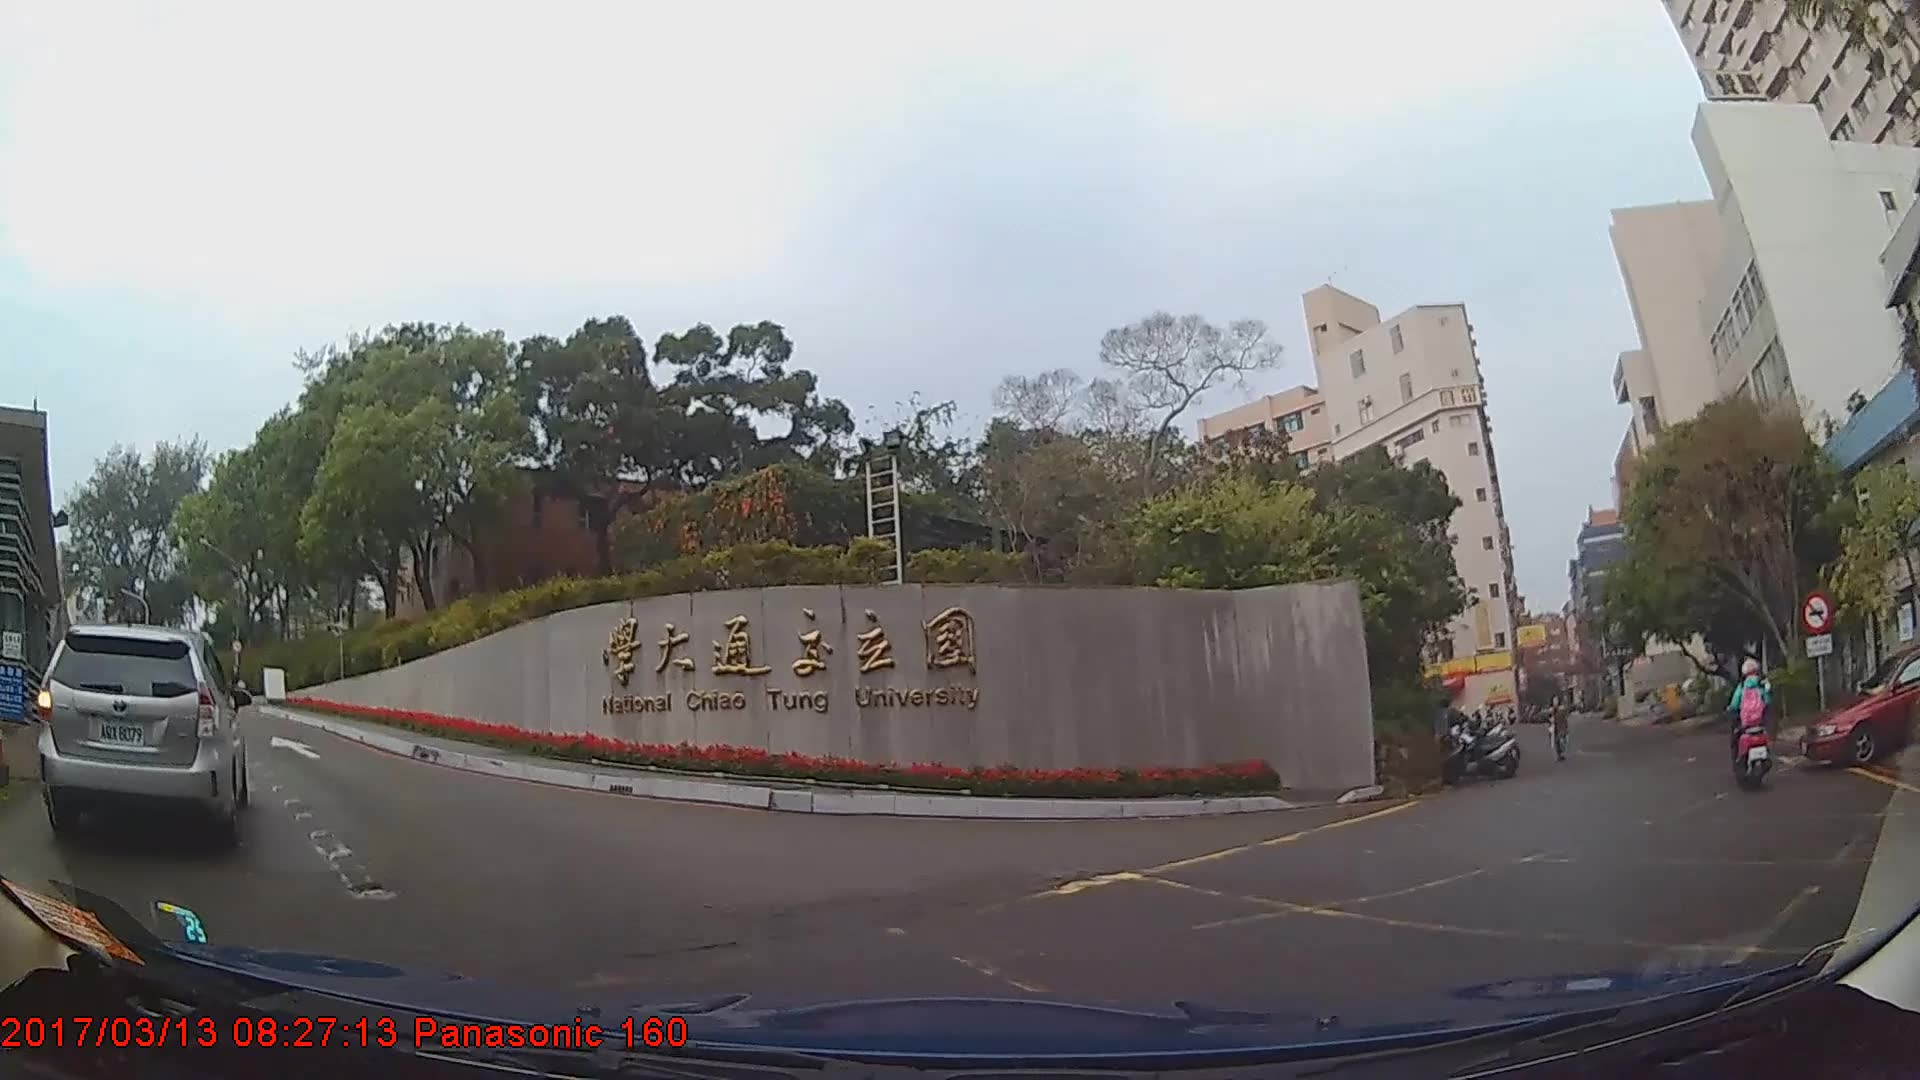pedestrian: (1547, 698, 1571, 760)
rider: (1731, 658, 1777, 794)
vehicle: (37, 624, 248, 852), (1800, 644, 1920, 766)
